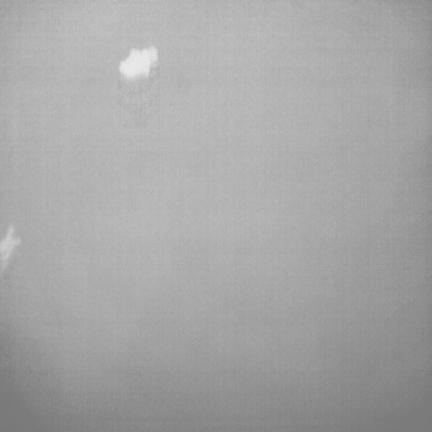flukeprints: (120, 46, 157, 79)
